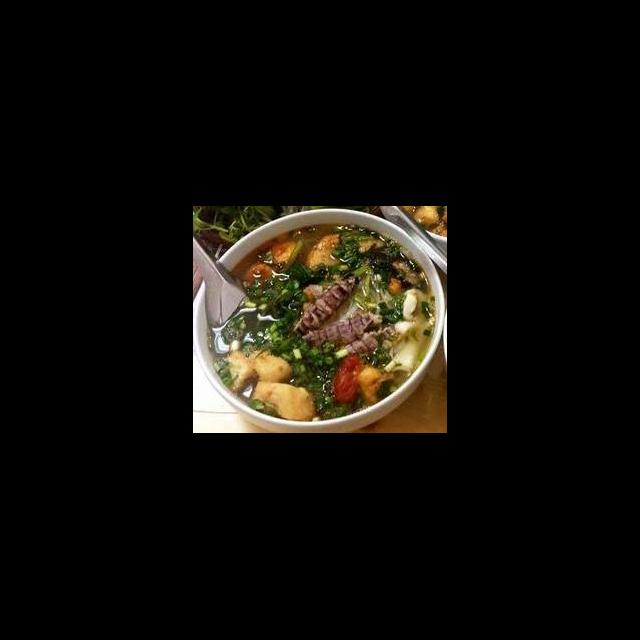dau hu: (245, 378, 317, 423), (243, 348, 296, 388)
tom tit: (289, 270, 363, 340), (298, 308, 386, 354), (333, 324, 403, 364)
